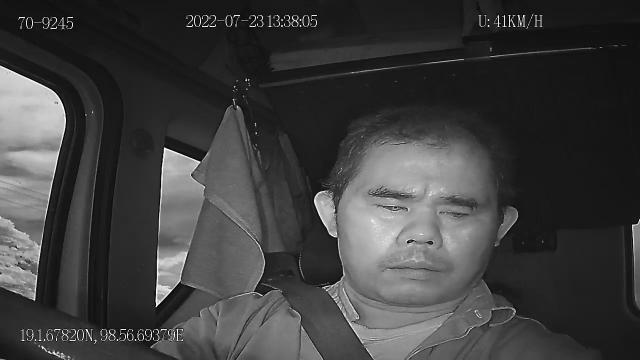SafeDriving: (431, 197, 482, 228), (364, 191, 416, 219)
Seatbelt: (259, 278, 377, 360)
